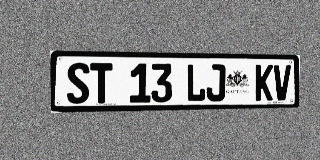1: (130, 63, 151, 103)
3: (151, 63, 172, 102)
J: (206, 64, 225, 102)
K: (255, 64, 273, 101)
L: (186, 64, 206, 102)
S: (67, 63, 90, 104)
T: (90, 63, 112, 103)
V: (273, 65, 291, 100)
